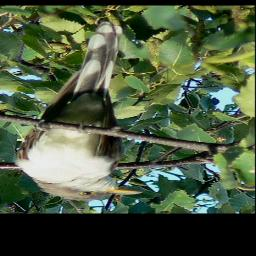Cuckoo: (16, 20, 144, 203)
